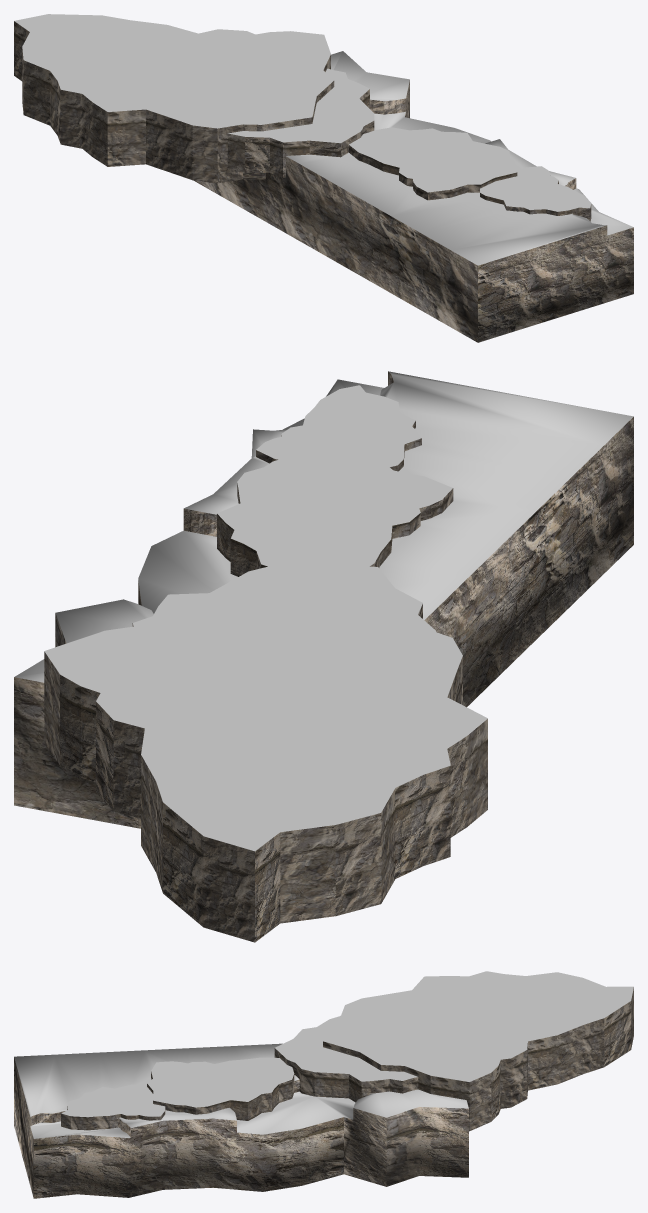
The model's file is layeredRock2.fbx.
3 views of the same model, one above another, from view 1: azimuth 30°, elevation 25°; view 2: azimuth 150°, elevation 25°; view 3: azimuth 270°, elevation 25° (orthographic). The views are drawn at different scales.
Parts seen in each view (by area): view 1: Cube.001; view 2: Cube.001; view 3: Cube.001.
Part boxes in pixels (x1,y1,x2,y2): Cube.001: [14, 14, 633, 342]; Cube.001: [14, 371, 633, 942]; Cube.001: [14, 971, 633, 1198].
Size of the model in its own units: 919 by 267 by 1717.
